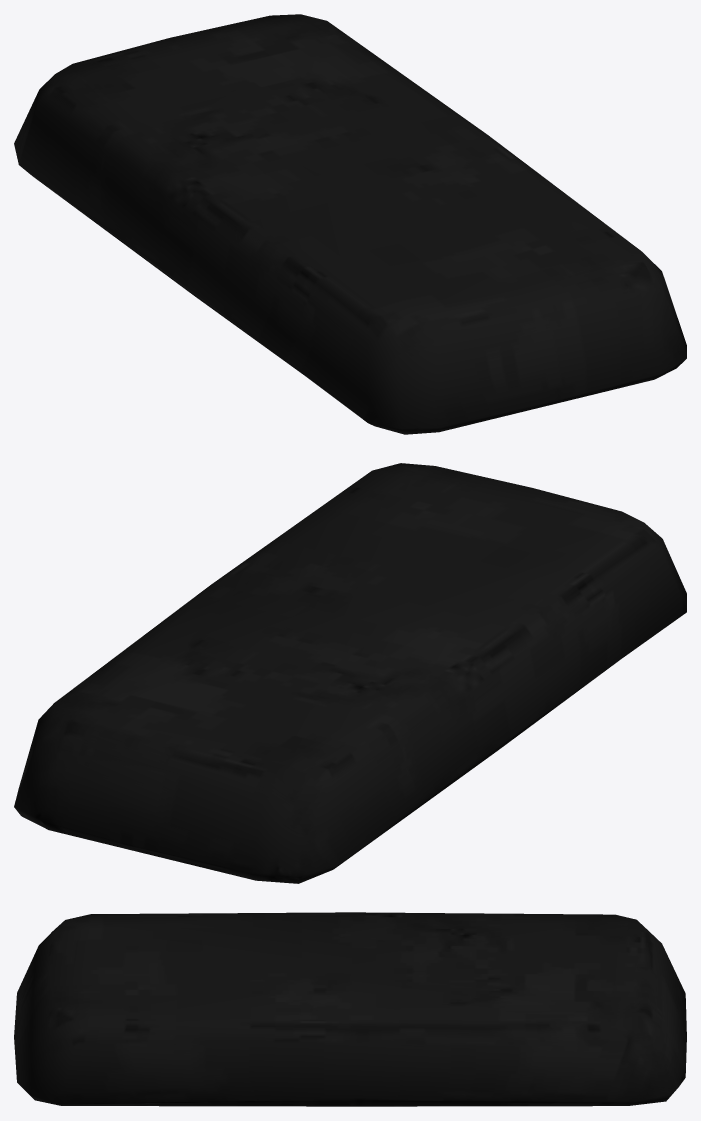
Rendered from high-quality-metal.glb.
3 views of the same model, one above another, from view 1: azimuth 30°, elevation 25°; view 2: azimuth 150°, elevation 25°; view 3: azimuth 270°, elevation 25° (orthographic). The views are drawn at different scales.
Parts seen in each view (by area): view 1: hqmetal_LOD0; view 2: hqmetal_LOD0; view 3: hqmetal_LOD0.
Boxes of the visible parts, x1,y1,x2,y2 form: hqmetal_LOD0: [14, 14, 686, 434]; hqmetal_LOD0: [14, 463, 686, 883]; hqmetal_LOD0: [14, 912, 686, 1106].
Size of the model in its own units: 0.1478 by 0.041 by 0.3207.
1 material, 1 textured.
